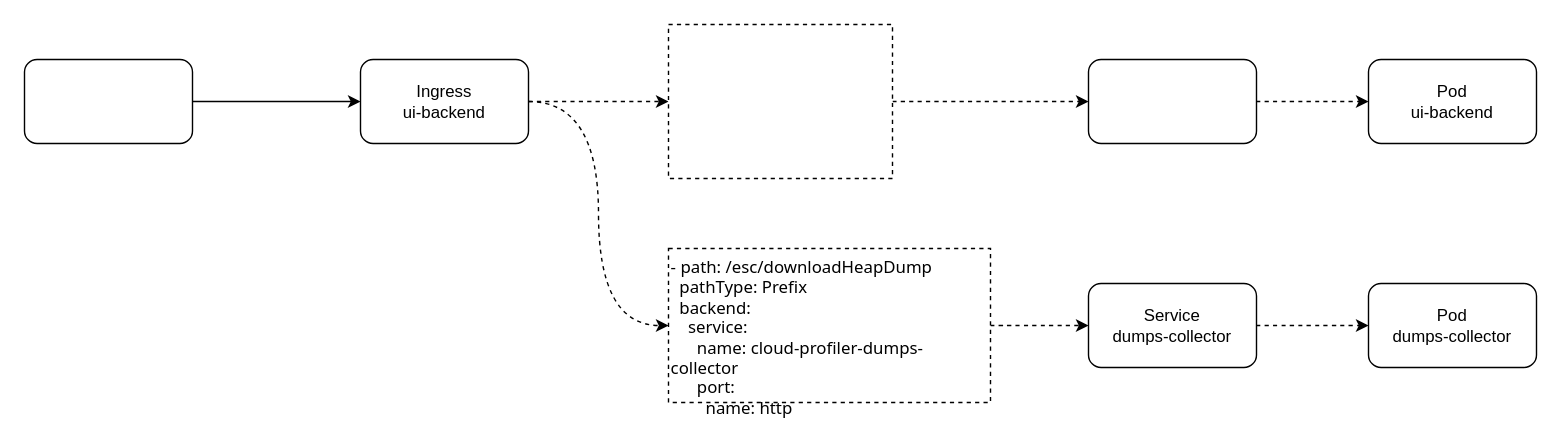
Image size: 1561x444. Some labels were removed from this diagram. The shapes that lost their labels are listed below. From the top down, each one's centre as x and y in pixels, then its label:
(107,101): ui-frontend
(779,100): - path: / pathType: Prefix backend: service: name: ui port: name: http
(1171,101): Service ui-backend
